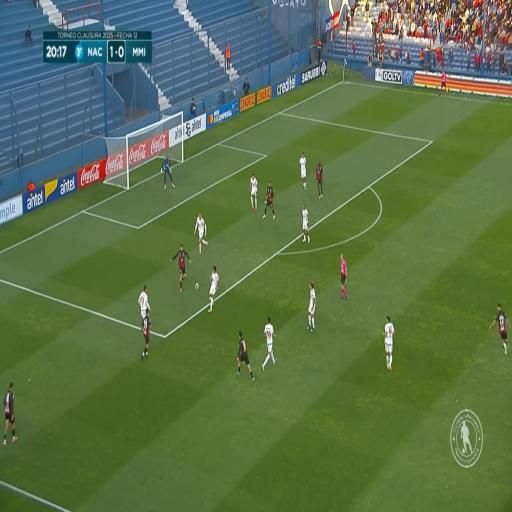Ball: (194, 282, 199, 288)
Goalkeeper: (164, 152, 174, 188)
Player: (497, 302, 509, 356), (264, 317, 276, 369), (5, 386, 16, 440), (384, 317, 394, 370), (236, 332, 247, 378), (308, 280, 317, 334), (141, 312, 152, 355), (264, 180, 275, 219), (178, 243, 187, 290), (140, 285, 150, 327), (209, 267, 218, 309), (316, 158, 324, 202), (249, 173, 258, 212), (300, 150, 308, 192), (198, 208, 204, 256), (303, 202, 309, 244)
Referee: (340, 254, 348, 302), (441, 69, 447, 98)
